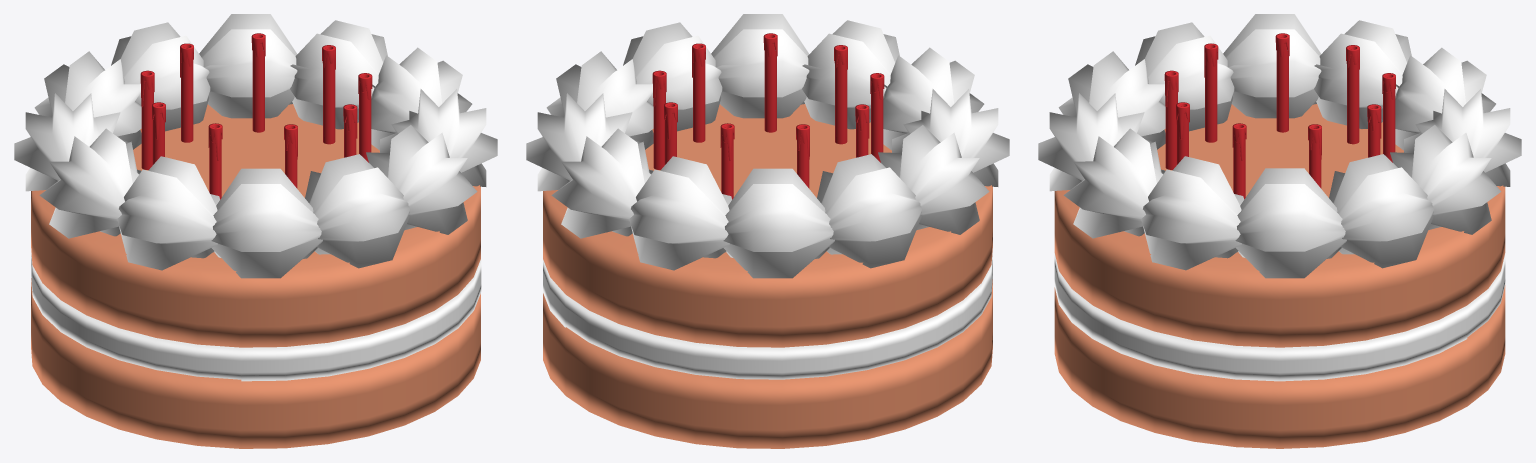
Rendered from BirthdayCake.glb.
The picture shows the model from 3 angles, left to right: view 1: azimuth 30°, elevation 25°; view 2: azimuth 150°, elevation 25°; view 3: azimuth 270°, elevation 25°; orthographic projection.
Visible parts, largest first — view 1: Cylinder.003, Cylinder.002, Cylinder, Cylinder.001, Candle; view 2: Cylinder.003, Cylinder.002, Cylinder, Cylinder.001, Candle; view 3: Cylinder.003, Cylinder.002, Cylinder, Cylinder.001, Candle.
Boxes of the visible parts, x1,y1,x2,y2 form: Cylinder.003: (14, 14, 497, 278); Cylinder.002: (31, 104, 480, 347); Cylinder: (31, 278, 480, 448); Cylinder.001: (31, 253, 481, 381); Candle: (140, 33, 372, 199); Cylinder.003: (526, 14, 1009, 278); Cylinder.002: (543, 104, 992, 347); Cylinder: (543, 279, 992, 448); Cylinder.001: (543, 248, 992, 379); Candle: (652, 33, 884, 199); Cylinder.003: (1038, 14, 1521, 278); Cylinder.002: (1054, 104, 1505, 347); Cylinder: (1054, 285, 1505, 448); Cylinder.001: (1054, 253, 1505, 381); Candle: (1164, 33, 1395, 199).
Size of the model in its own units: 2.14 by 1.33 by 2.14.
